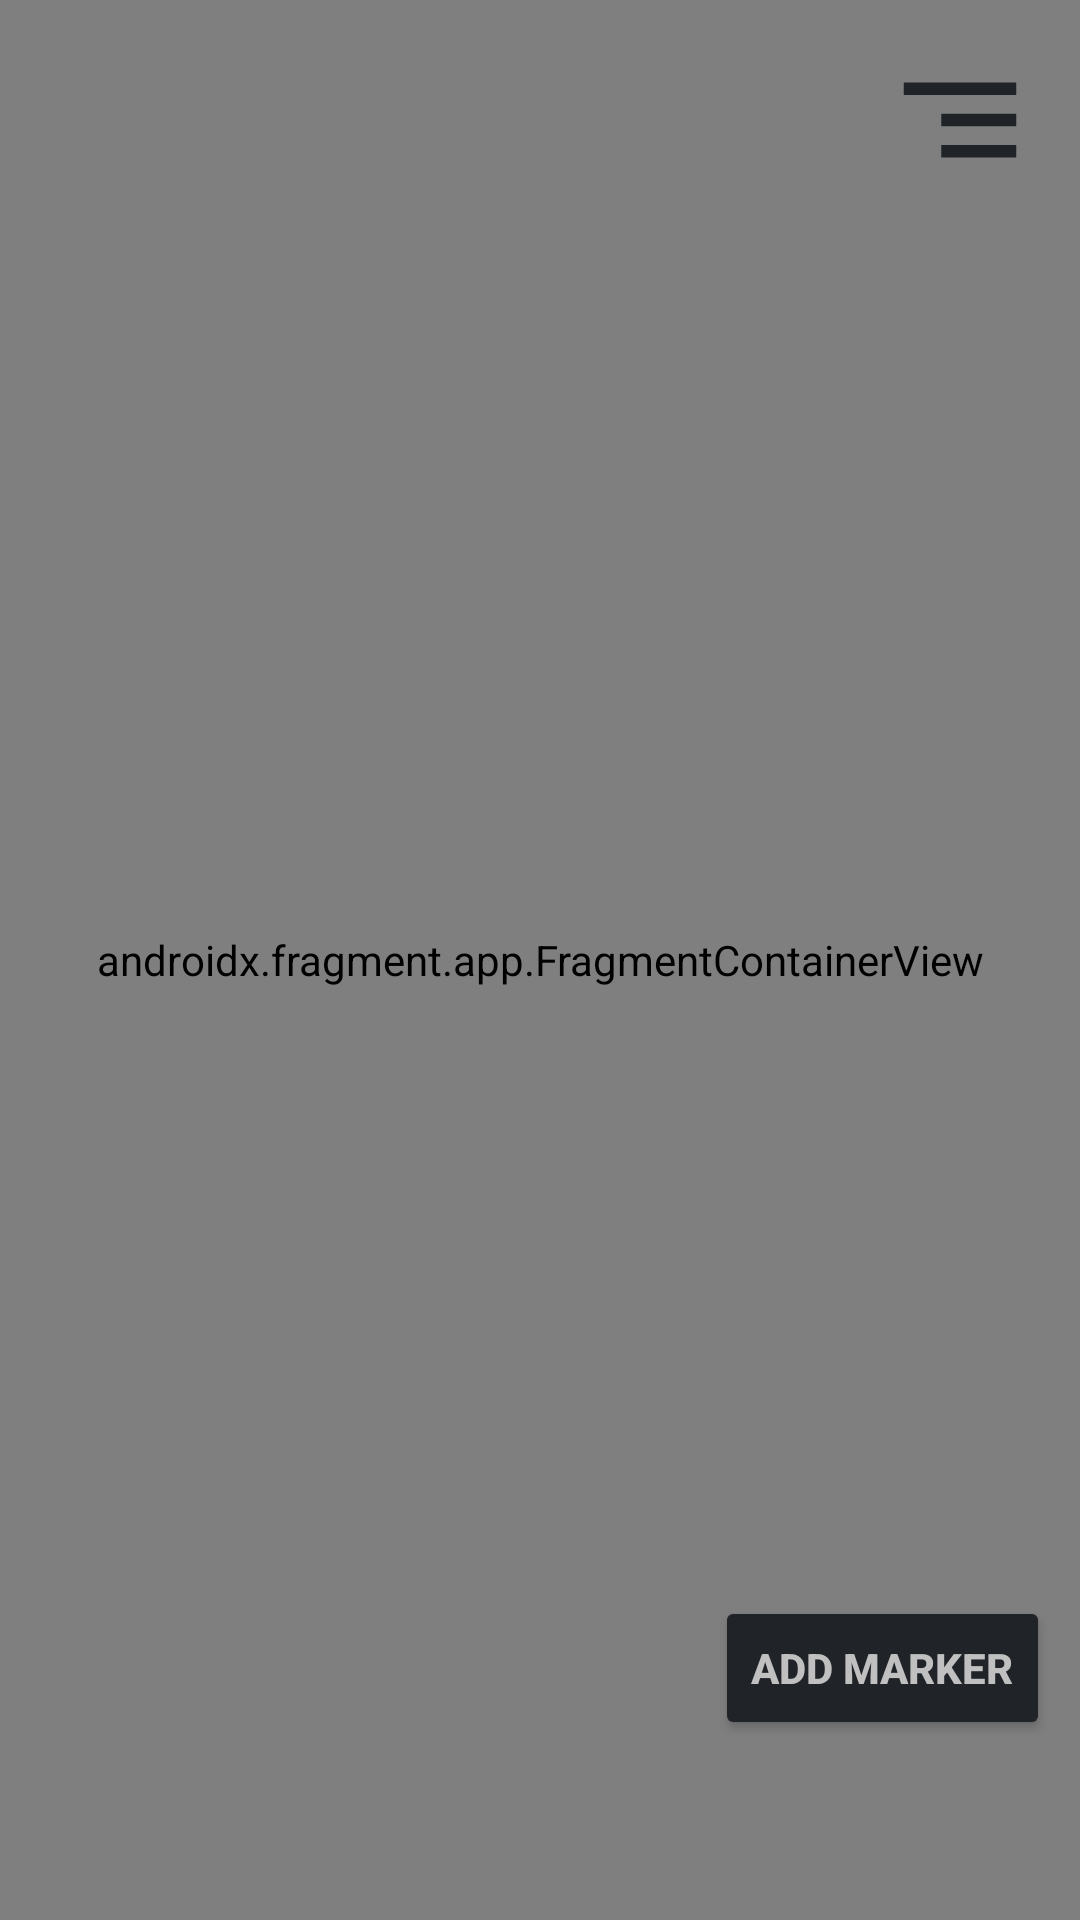

Named icons in this screenshot (1080w x 1920h) and their centers, (x=x, y=y):
list: (x=960, y=120)
